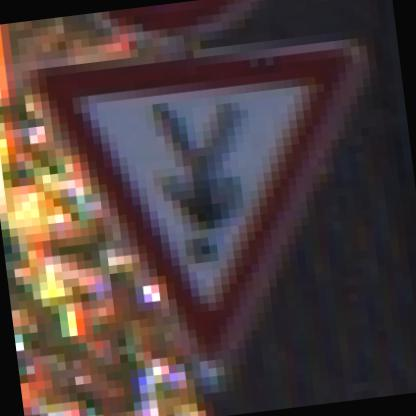crosswalk: (46, 14, 402, 390)
